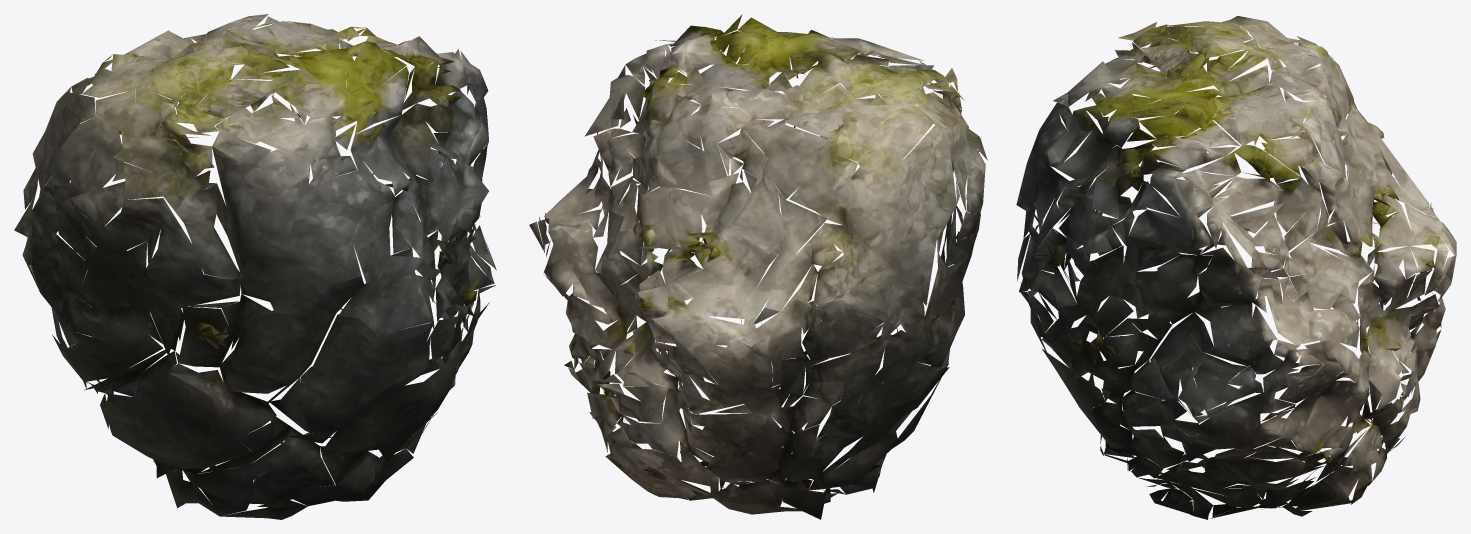
File: SM_NW_Tripo_MossBoulder.glb
3 views of the same model, side by side, from view 1: azimuth 30°, elevation 25°; view 2: azimuth 150°, elevation 25°; view 3: azimuth 270°, elevation 25° (orthographic). The views are drawn at different scales.
Parts seen in each view (by area): view 1: SM_NW_Tripo_MossBoulder; view 2: SM_NW_Tripo_MossBoulder; view 3: SM_NW_Tripo_MossBoulder.
Boxes of the visible parts, bbox=[...] form: SM_NW_Tripo_MossBoulder: bbox=[14, 14, 496, 519]; SM_NW_Tripo_MossBoulder: bbox=[529, 14, 987, 519]; SM_NW_Tripo_MossBoulder: bbox=[1016, 16, 1456, 519].
Bounding box in the file's own units: 1 × 1 × 0.9527.
Materials: 1 (1 with a texture image).
